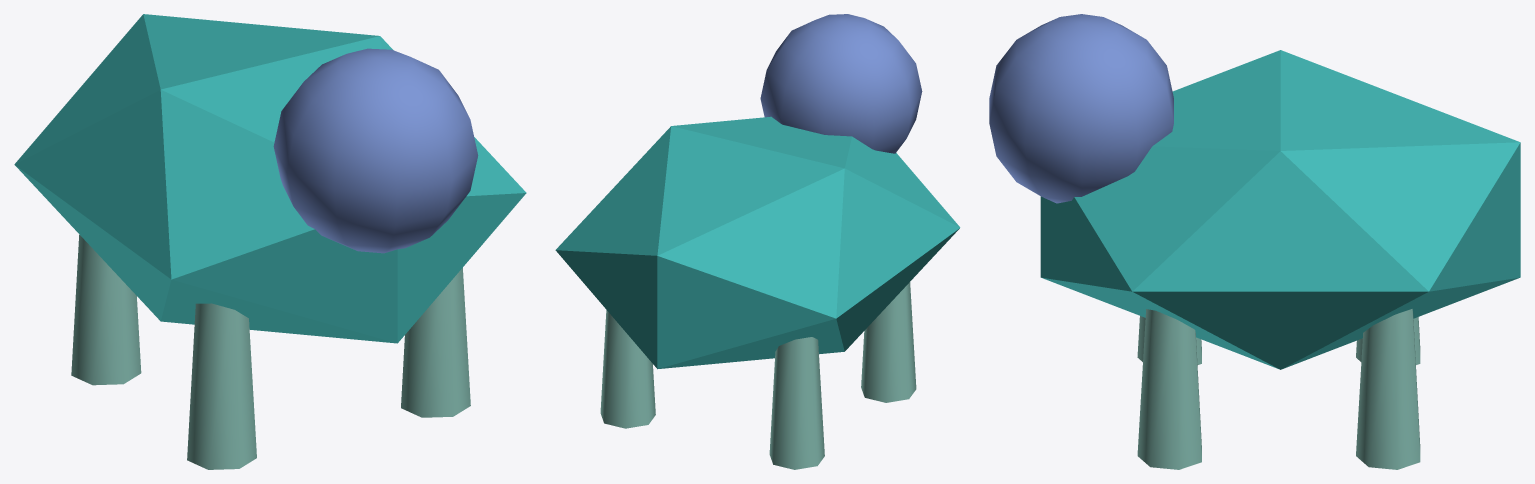
File: prism_otter.glb
The picture shows the model from 3 angles, left to right: view 1: azimuth 30°, elevation 25°; view 2: azimuth 150°, elevation 25°; view 3: azimuth 270°, elevation 25°; orthographic projection. The views are drawn at different scales.
Parts seen in each view (by area): view 1: body_core, head_core, leg_-1_1, leg_-1_-1, leg_1_1; view 2: body_core, head_core, leg_-1_-1, leg_-1_1, leg_1_-1; view 3: body_core, head_core, leg_1_1, leg_1_-1.
Boxes of the visible parts, box(x1,y1,x2,y2) form: body_core: box(14, 14, 526, 343); head_core: box(273, 48, 478, 253); leg_-1_1: box(187, 303, 256, 469); leg_-1_-1: box(71, 234, 141, 385); leg_1_1: box(401, 268, 470, 417); body_core: box(555, 116, 960, 369); head_core: box(760, 14, 922, 153); leg_-1_-1: box(769, 337, 824, 469); leg_-1_1: box(861, 282, 916, 402); leg_1_-1: box(600, 310, 655, 428); body_core: box(1040, 50, 1520, 369); head_core: box(989, 14, 1173, 203); leg_1_1: box(1137, 309, 1201, 469); leg_1_-1: box(1356, 309, 1420, 469).
Size of what is drawn, in the model's own units: 1.59 by 1.75 by 2.19.
